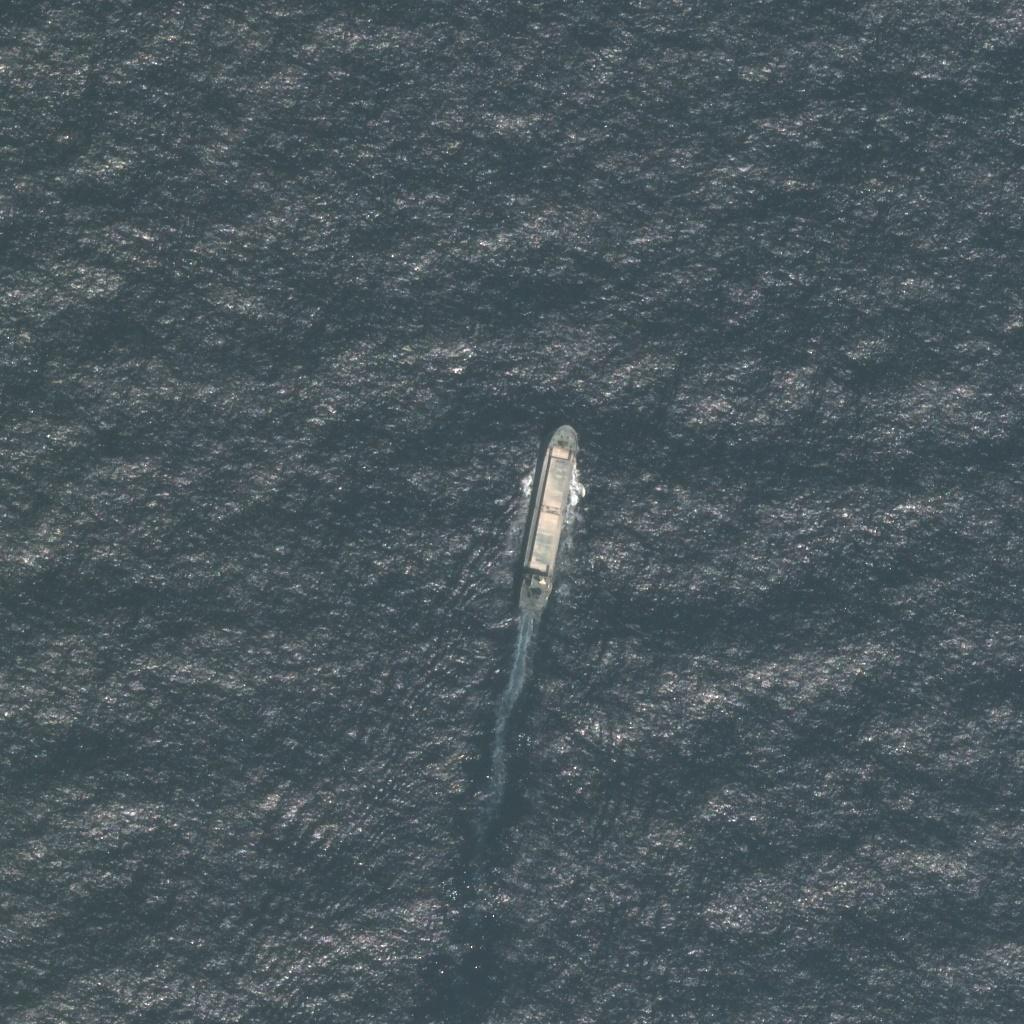ship: (518, 417, 585, 618)
